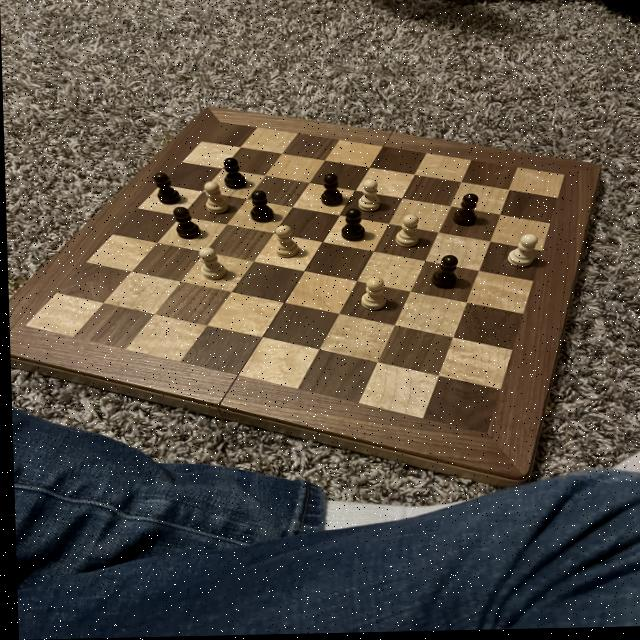black-knight: (448, 193, 481, 232), (245, 188, 277, 225), (171, 205, 202, 243), (220, 156, 250, 194), (316, 174, 346, 210), (153, 172, 183, 207), (428, 257, 457, 292), (337, 210, 365, 245)
white-knight: (195, 245, 230, 284), (504, 235, 540, 272), (357, 278, 390, 313), (200, 180, 230, 217), (392, 214, 422, 251), (352, 178, 381, 216), (272, 225, 299, 262)
